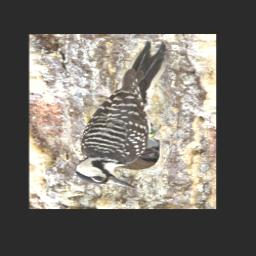Woodpecker: (74, 40, 170, 189)
